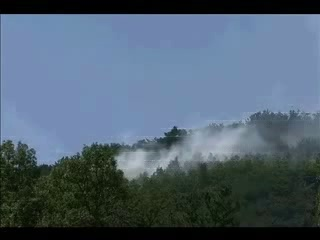smoke: (115, 119, 318, 181)
